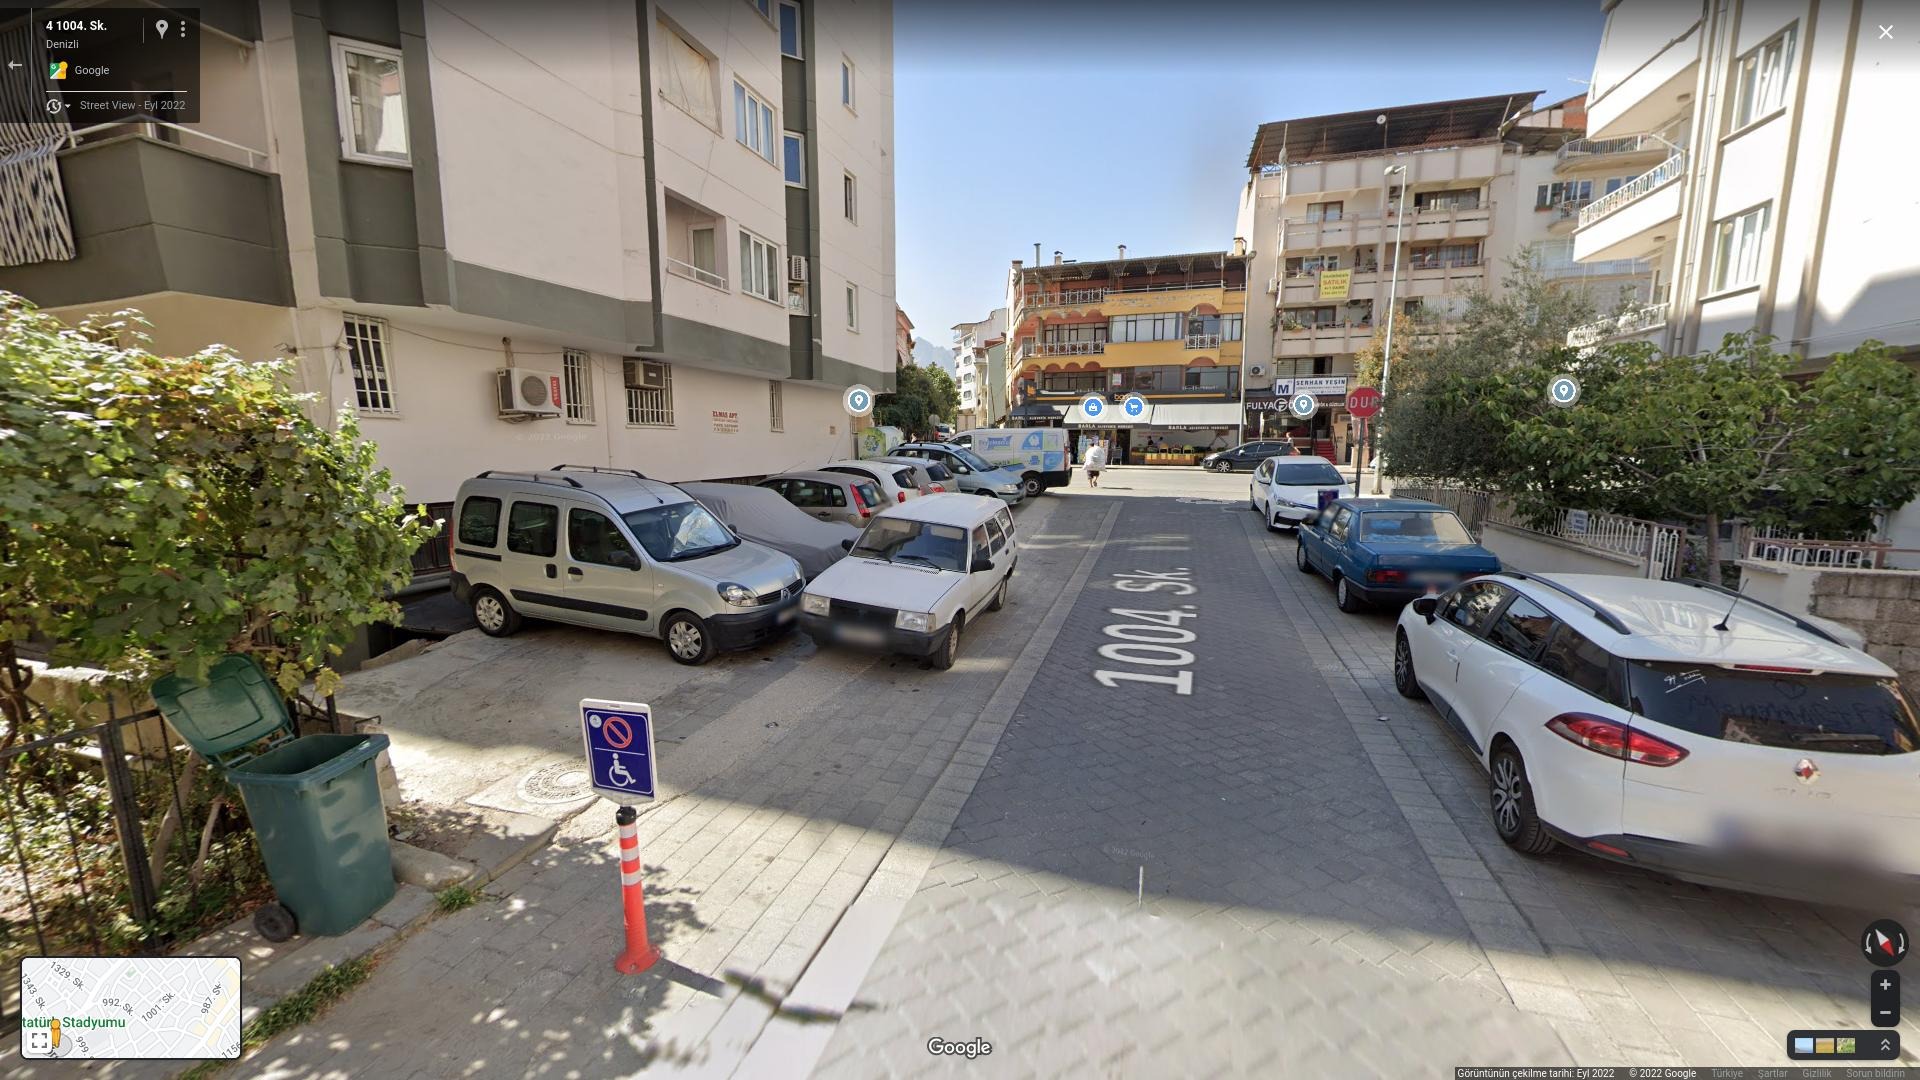stop: (1348, 388, 1381, 418)
